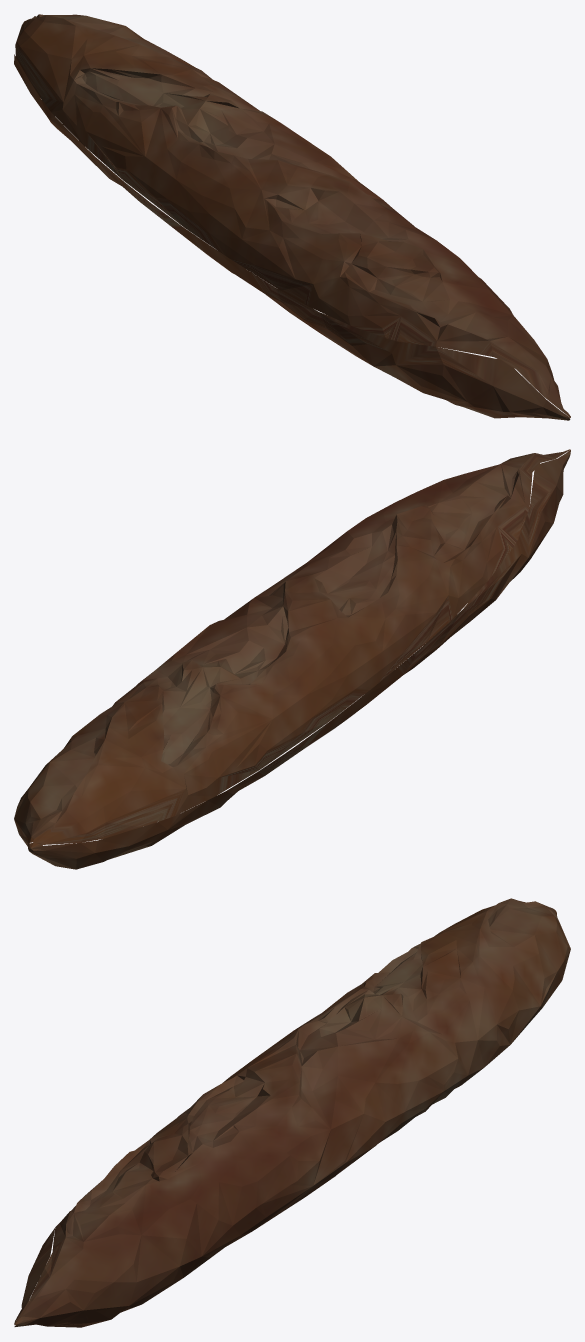
Rendered from food_prepared_baguette_b01.glb.
3 views of the same model, one above another, from view 1: azimuth 30°, elevation 25°; view 2: azimuth 150°, elevation 25°; view 3: azimuth 330°, elevation 25° (orthographic). The views are drawn at different scales.
Visible parts, largest first — view 1: geometry_0; view 2: geometry_0; view 3: geometry_0.
Boxes of the visible parts, x1=… form: geometry_0: x1=14, y1=14, x2=570, y2=420; geometry_0: x1=14, y1=449, x2=570, y2=869; geometry_0: x1=14, y1=898, x2=570, y2=1327.
Bounding box in the file's own units: 0.0671 × 0.0447 × 0.42.
Materials: 1 (1 with a texture image).
